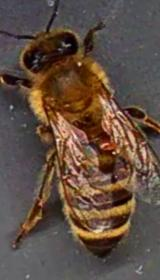varroa_mite: (91, 130, 126, 155)
